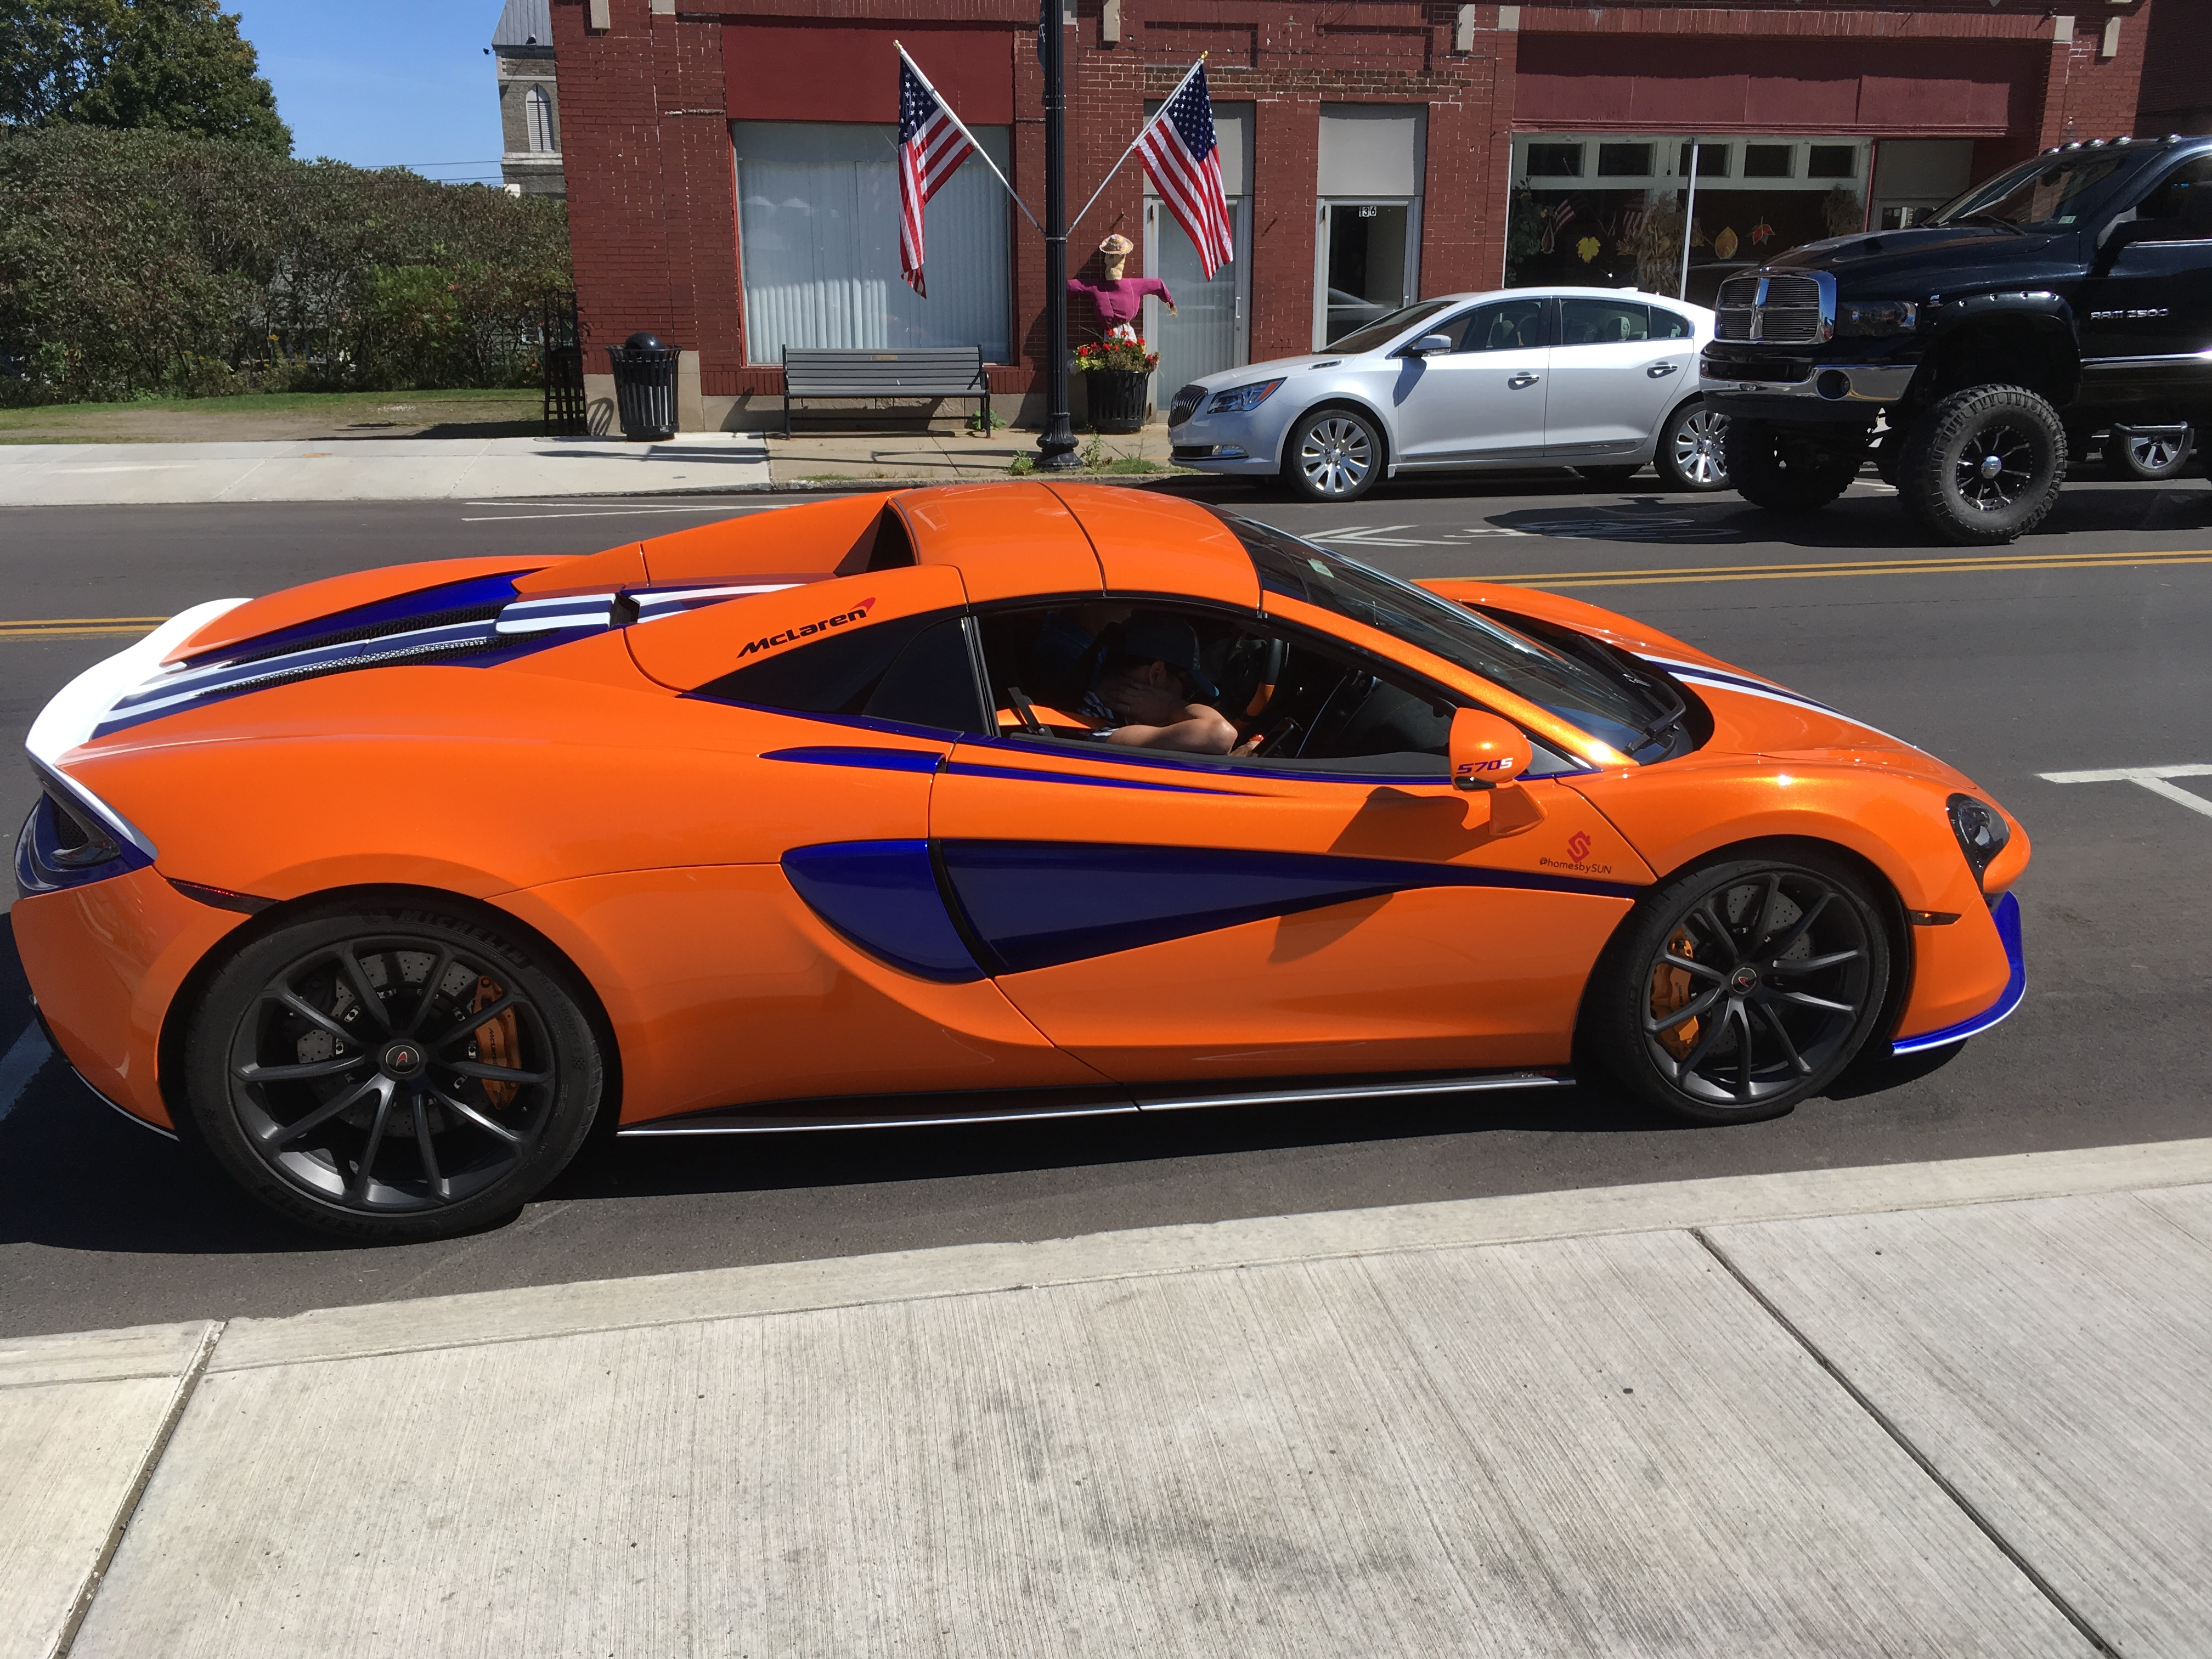headlight: (17, 786, 134, 884), (1932, 775, 2031, 870), (1749, 267, 1851, 349), (1162, 376, 1221, 425)
wheel: (152, 861, 624, 1255), (1590, 824, 1907, 1127), (1914, 387, 2094, 523), (1737, 411, 1874, 514), (1280, 390, 1402, 502), (1653, 378, 1733, 493)
